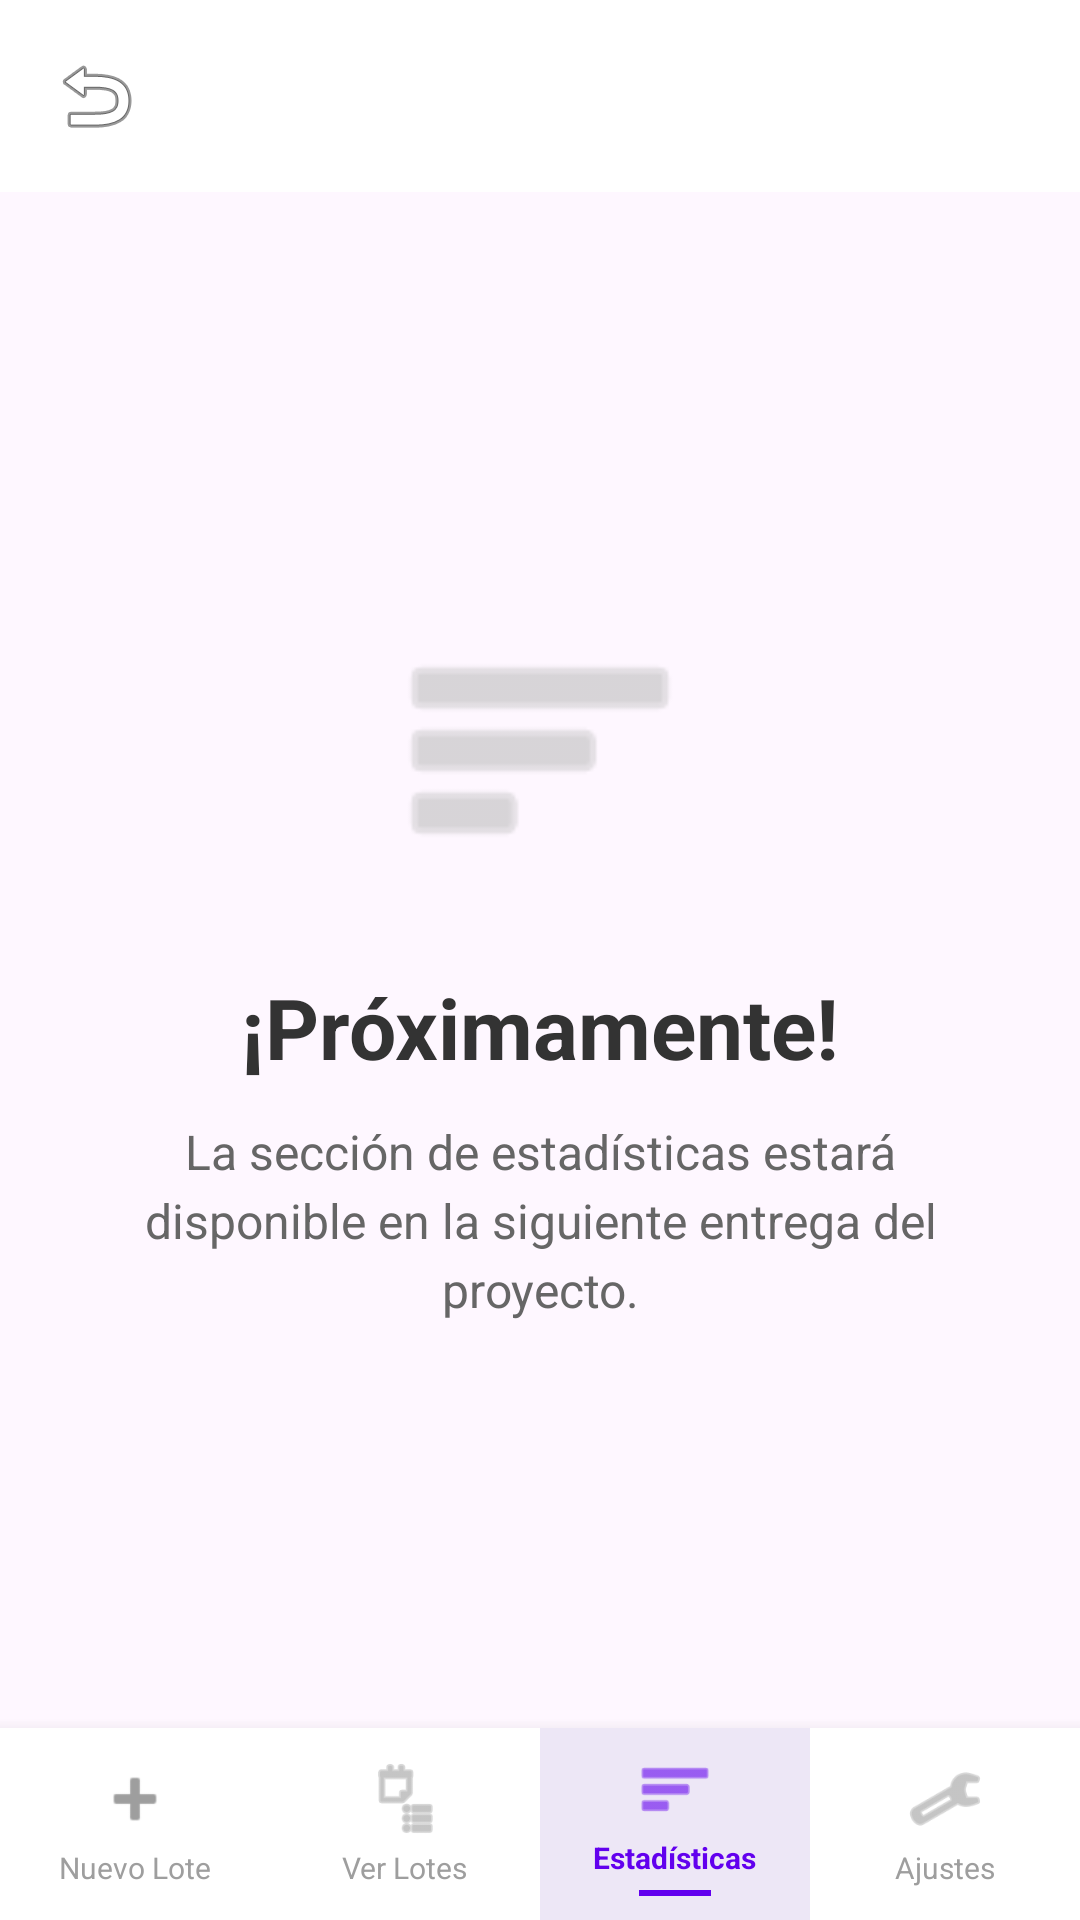

Screen size 1080w x 1920h. Icon name, then its center in pixels as (x,y):
agenda: (405,1798)
manage: (945,1799)
revert: (97,96)
